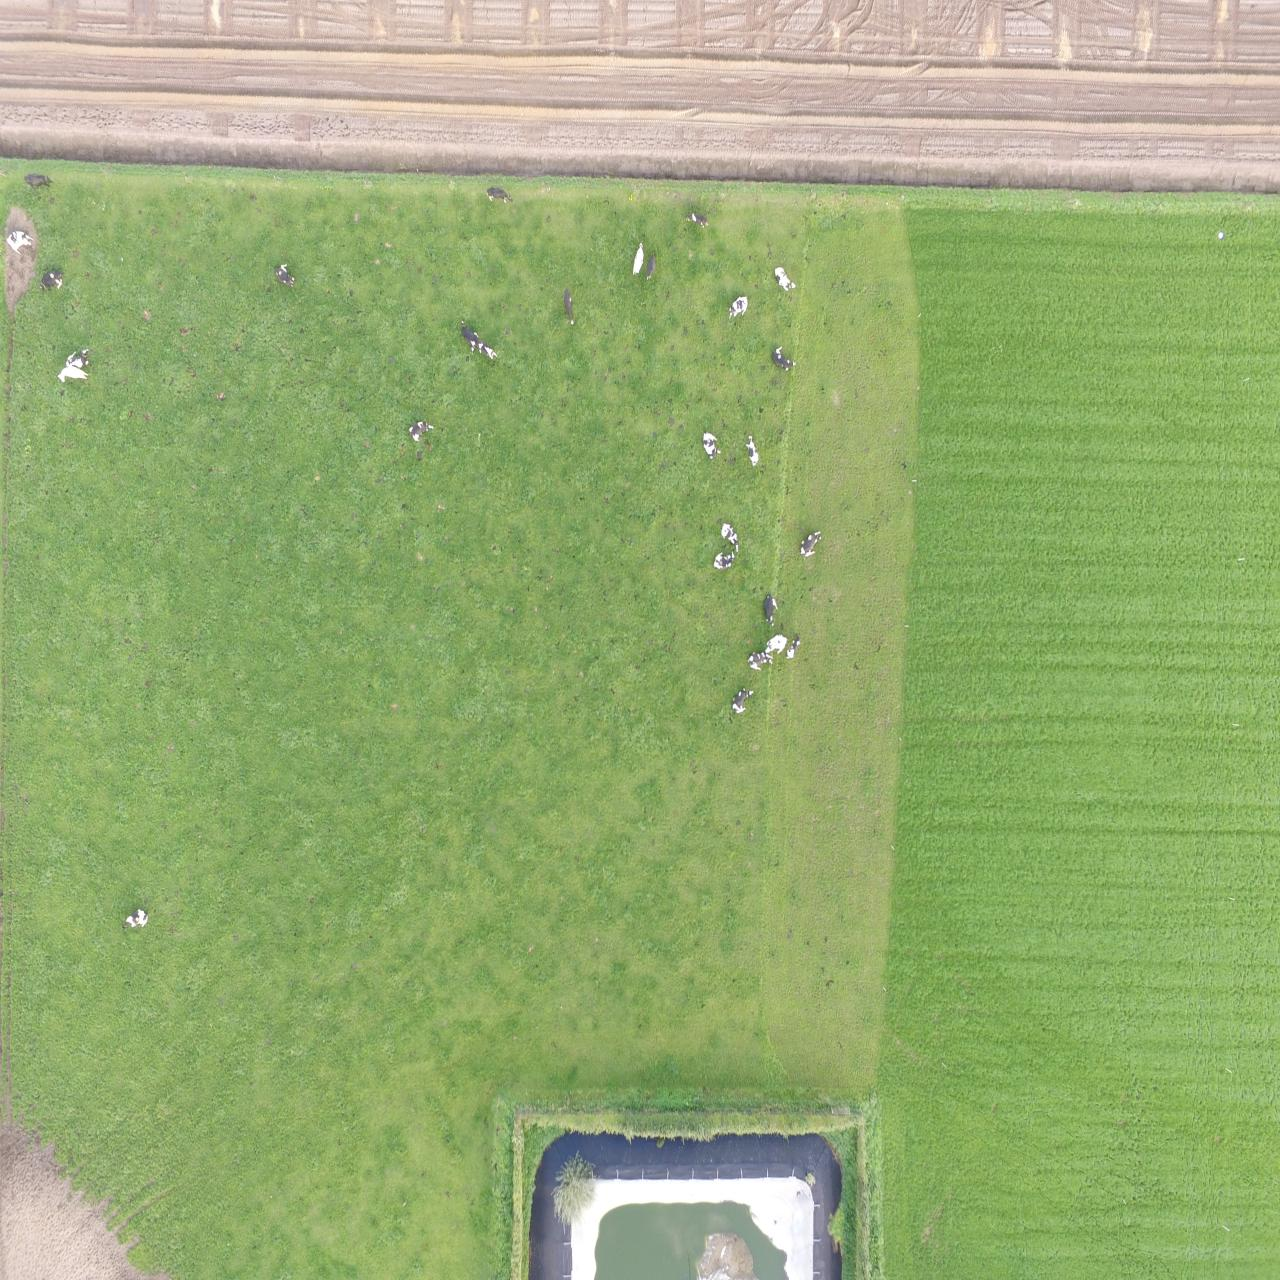cow: (771, 342, 797, 375), (5, 227, 35, 254), (797, 530, 822, 559), (720, 519, 741, 552), (121, 906, 151, 928), (702, 429, 723, 461), (730, 688, 755, 715), (22, 171, 54, 191), (560, 287, 576, 328), (273, 264, 297, 290), (771, 265, 795, 291), (763, 590, 778, 628), (484, 185, 513, 205), (39, 268, 62, 293), (763, 632, 788, 655), (683, 210, 710, 231), (744, 652, 774, 670), (728, 292, 748, 319), (66, 345, 89, 367), (474, 338, 497, 360), (56, 366, 88, 382), (632, 241, 646, 278), (459, 316, 475, 349), (408, 422, 433, 442), (713, 552, 738, 570), (747, 434, 760, 468), (787, 632, 799, 662), (646, 250, 658, 281)
